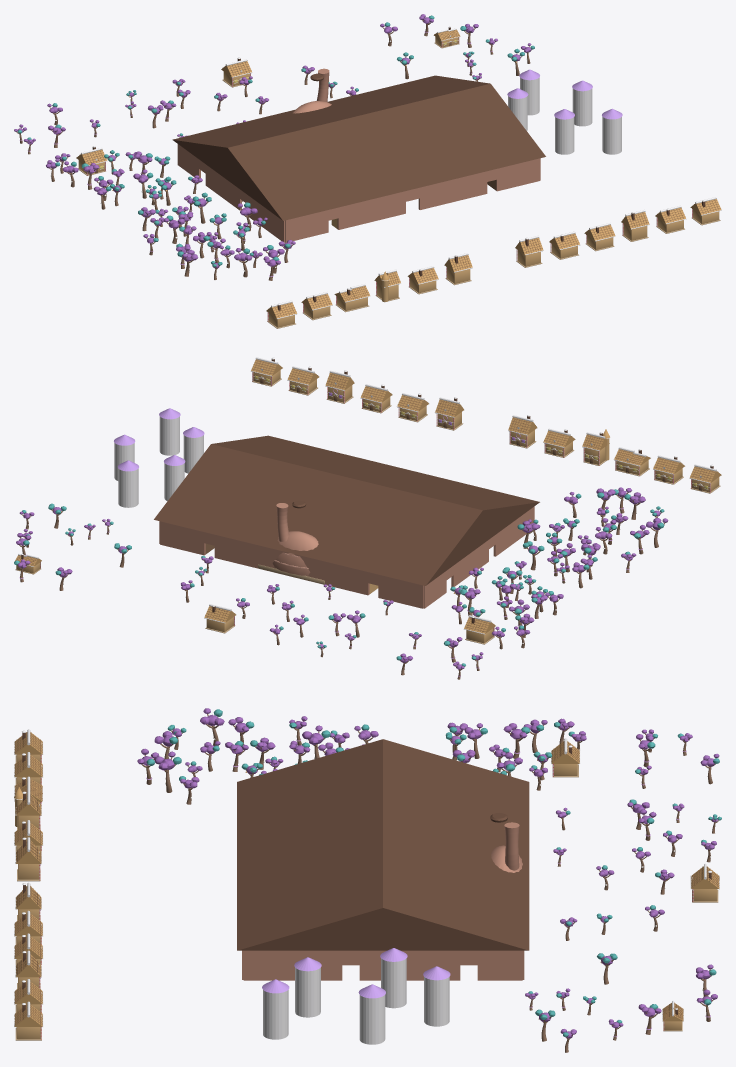
File: HauntedBakery_MainStructures.fbx
3 renders of one model, top to bottom at view 1: azimuth 30°, elevation 25°; view 2: azimuth 150°, elevation 25°; view 3: azimuth 270°, elevation 25°, orthographic. The views are drawn at different scales.
Parts seen in each view (by area): view 1: HAU_Bakery_Roof, HAU_Bakery_OuterWall_02, HAU_Bakery_OuterWall_01, HAU_Bakery_OuterWall_03, HAU_Bakery_OuterWall, HAU_Bakery_OuterWall_11, HAU_FlourSilo_02, HAU_GingerHouse_Twin_01, HAU_Bakery_OuterWall_12, HAU_GingerHouse_Cursed_02, HAU_FlourSilo_03, HAU_FlourSilo_04 (+14 smaller); view 2: HAU_Bakery_Roof, HAU_Bakery_OuterWall_08, HAU_Landmark_MagicOven, HAU_Bakery_OuterWall_09, HAU_Bakery_OuterWall_07, HAU_GingerHouse_Tall, HAU_Bakery_OuterWall_11, HAU_GingerHouse_Twin_01, HAU_Bakery_OuterWall_12, HAU_FlourSilo_01, HAU_FlourSilo_04, HAU_GingerHouse_Cursed (+14 smaller); view 3: HAU_Bakery_Roof, HAU_Bakery_OuterWall_04, HAU_Bakery_OuterWall_05, HAU_Bakery_OuterWall_06, HAU_FlourSilo_02, HAU_FlourSilo_03, HAU_FlourSilo_01, HAU_FlourSilo_04, HAU_Landmark_MagicOven, HAU_FlourSilo, HAU_GingerHouse_Cursed, HAU_GingerHouse_Cottage_08 (+12 smaller).
Boxes of the visible parts, x1,y1,x2,y2 form: HAU_Bakery_Roof: (172, 75, 545, 220); HAU_Bakery_OuterWall_02: (418, 171, 487, 209); HAU_Bakery_OuterWall_01: (337, 191, 405, 229); HAU_Bakery_OuterWall_03: (496, 158, 540, 191); HAU_Bakery_OuterWall: (285, 210, 328, 242); HAU_Bakery_OuterWall_11: (205, 164, 241, 210); HAU_FlourSilo_02: (572, 88, 592, 126); HAU_GingerHouse_Twin_01: (334, 284, 370, 312); HAU_Bakery_OuterWall_12: (246, 194, 284, 242); HAU_GingerHouse_Cursed_02: (621, 209, 649, 241); HAU_FlourSilo_03: (555, 117, 574, 154); HAU_FlourSilo_04: (602, 117, 621, 154); HAU_Bakery_Roof: (154, 435, 539, 585); HAU_Bakery_OuterWall_08: (214, 535, 369, 595); HAU_Landmark_MagicOven: (258, 500, 324, 584); HAU_Bakery_OuterWall_09: (378, 574, 423, 608); HAU_Bakery_OuterWall_07: (160, 521, 205, 555); HAU_GingerHouse_Tall: (582, 429, 610, 465); HAU_Bakery_OuterWall_11: (451, 540, 488, 586); HAU_GingerHouse_Twin_01: (614, 447, 651, 476); HAU_Bakery_OuterWall_12: (493, 506, 534, 556); HAU_FlourSilo_01: (118, 468, 138, 507); HAU_FlourSilo_04: (159, 416, 179, 455); HAU_GingerHouse_Cursed: (508, 415, 537, 448); HAU_Bakery_Roof: (237, 739, 529, 950); HAU_Bakery_OuterWall_04: (243, 950, 342, 980); HAU_Bakery_OuterWall_05: (359, 950, 460, 980); HAU_Bakery_OuterWall_06: (477, 950, 522, 980); HAU_FlourSilo_02: (359, 995, 385, 1044); HAU_FlourSilo_03: (295, 967, 320, 1017); HAU_FlourSilo_01: (424, 977, 449, 1026); HAU_FlourSilo_04: (263, 990, 288, 1039); HAU_Landmark_MagicOven: (490, 813, 522, 872); HAU_FlourSilo: (381, 958, 406, 1008); HAU_GingerHouse_Cursed: (15, 837, 41, 881); HAU_GingerHouse_Cottage_08: (14, 1001, 43, 1040).
Bounding box in the file's own units: 347 × 45.12 × 330.
